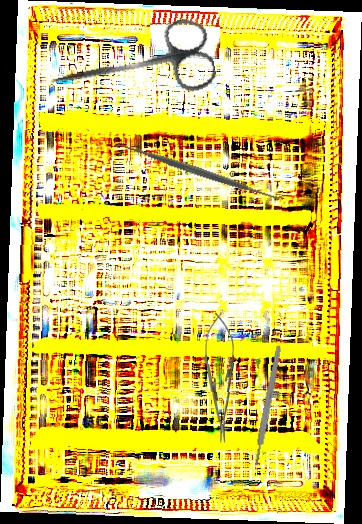Iris Scissors: (44, 14, 219, 121)
Needle Holder: (202, 312, 238, 444)
Scalpel Handle: (252, 344, 283, 467)
Spatula Surgical: (113, 134, 286, 209)
